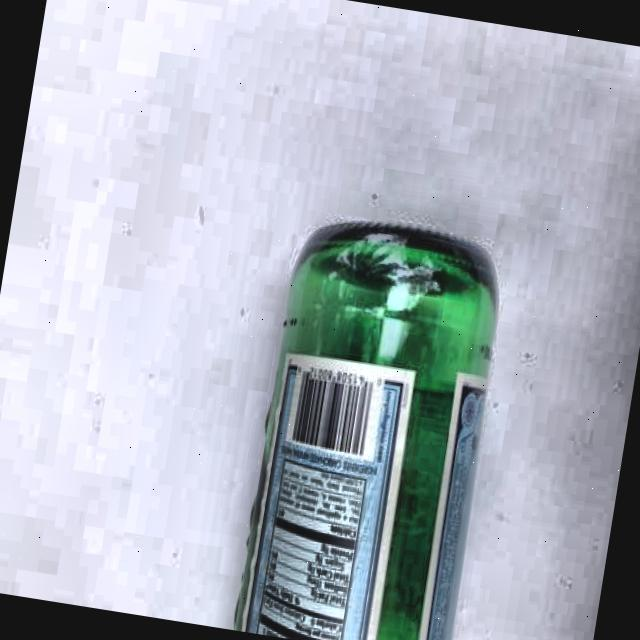glass: (227, 196, 520, 640)
